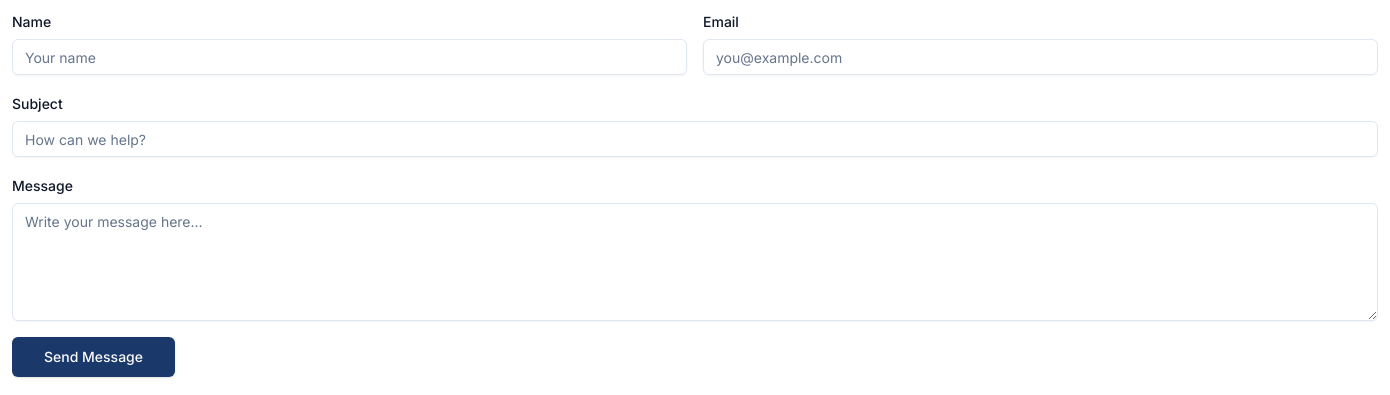
Test case: ContactForm › loading state › shows "Sending…" and disables the button while submitting
Type "John" into the field labelled "Name" at coordinates (350, 57), box 12,39 -> 687,75
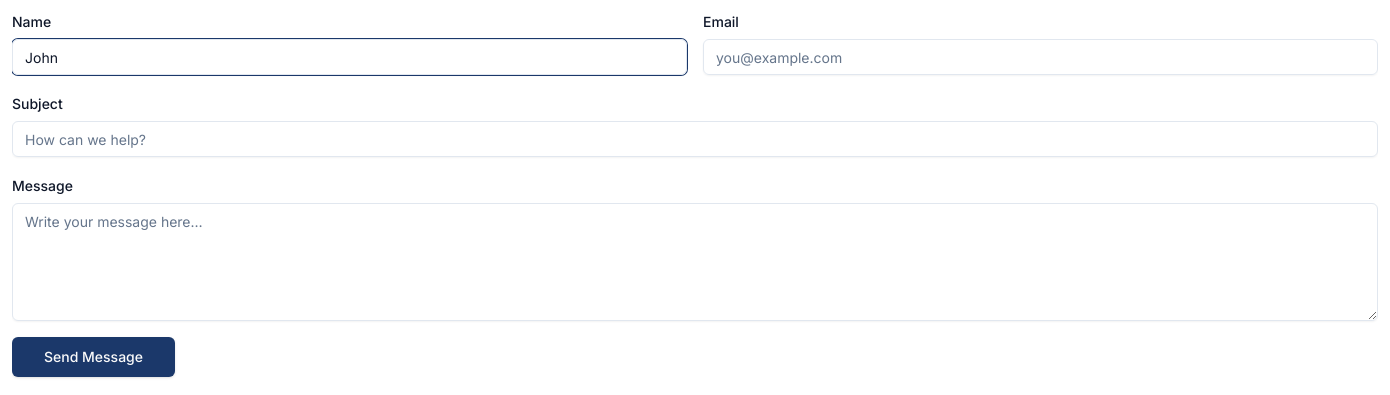
Type "john@example.com" into the field labelled "Email" at coordinates (1040, 57), box 703,39 -> 1378,75
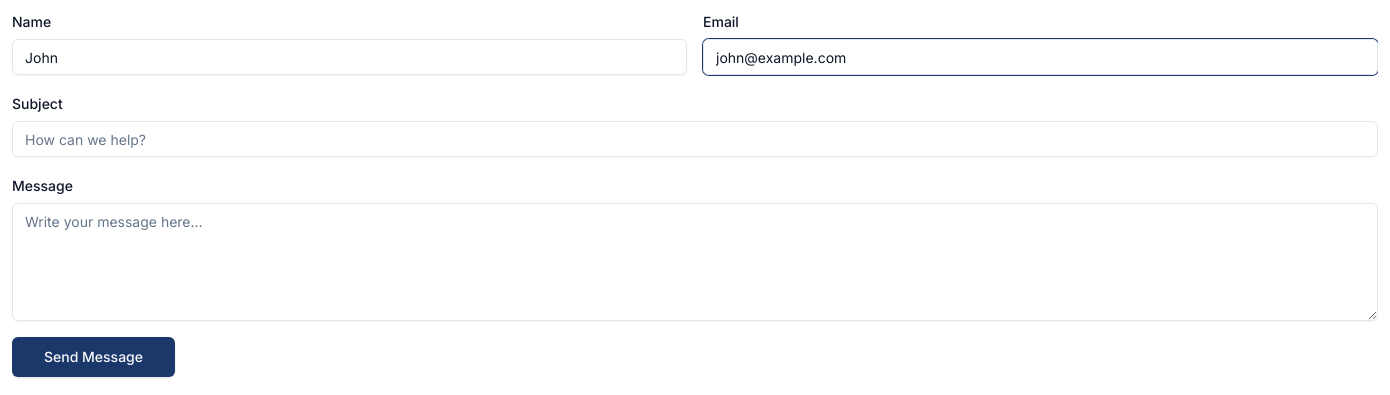
Type "Hello" into the field labelled "Subject" at coordinates (695, 139), box 12,121 -> 1378,157
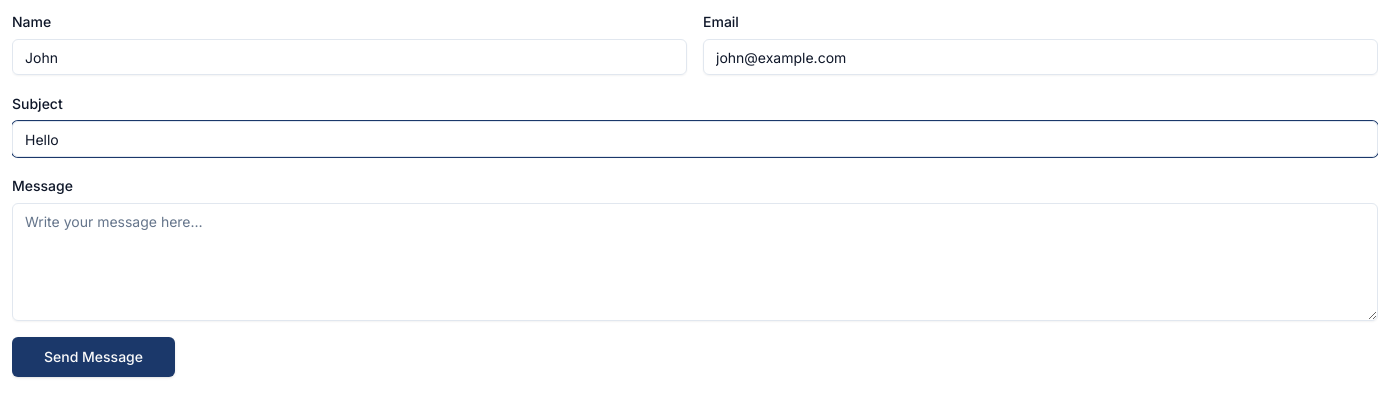
Type "Test message" into the text box labelled "Message" at coordinates (695, 262), box 12,203 -> 1378,321
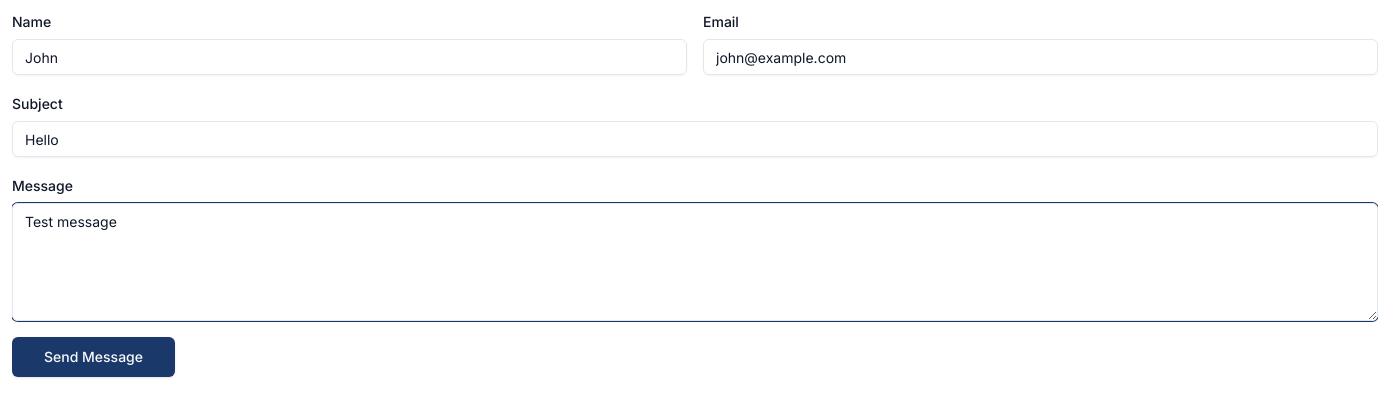
Click the button "Send Message" at coordinates (94, 357), box 12,337 -> 175,377
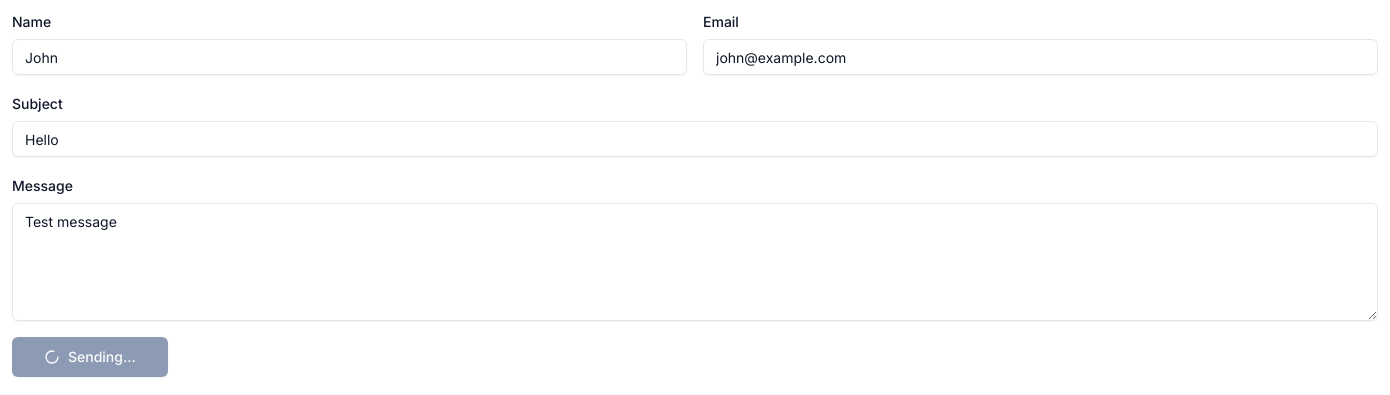
Result: the button "Sending…" is disabled at 12,337 -> 168,377
